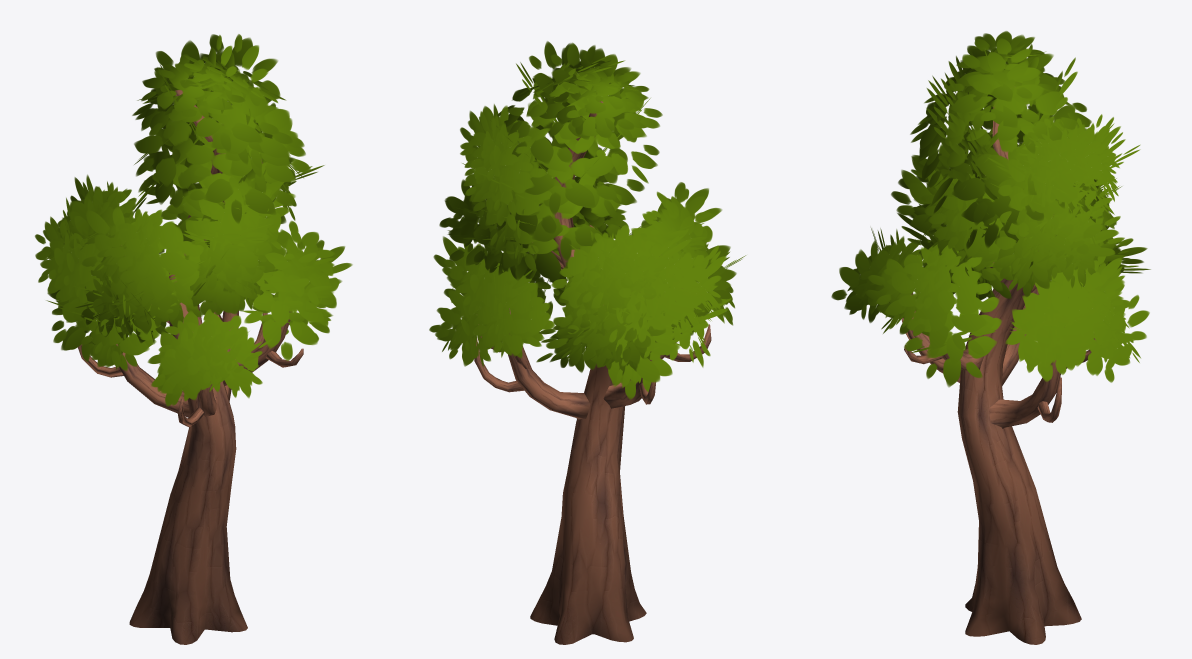
File: tree-3.glb
The picture shows the model from 3 angles, left to right: view 1: azimuth 30°, elevation 25°; view 2: azimuth 150°, elevation 25°; view 3: azimuth 270°, elevation 25°; orthographic projection. The views are drawn at different scales.
Parts seen in each view (by area): view 1: CommonTree_2; view 2: CommonTree_2; view 3: CommonTree_2.
Part boxes in pixels (box(x1,y1,x2,y2)): CommonTree_2: box(35, 34, 352, 644); CommonTree_2: box(429, 41, 745, 644); CommonTree_2: box(831, 31, 1150, 644).
Bounding box in the file's own units: 4.46 × 7.64 × 4.28.
2 materials, 2 textured.
